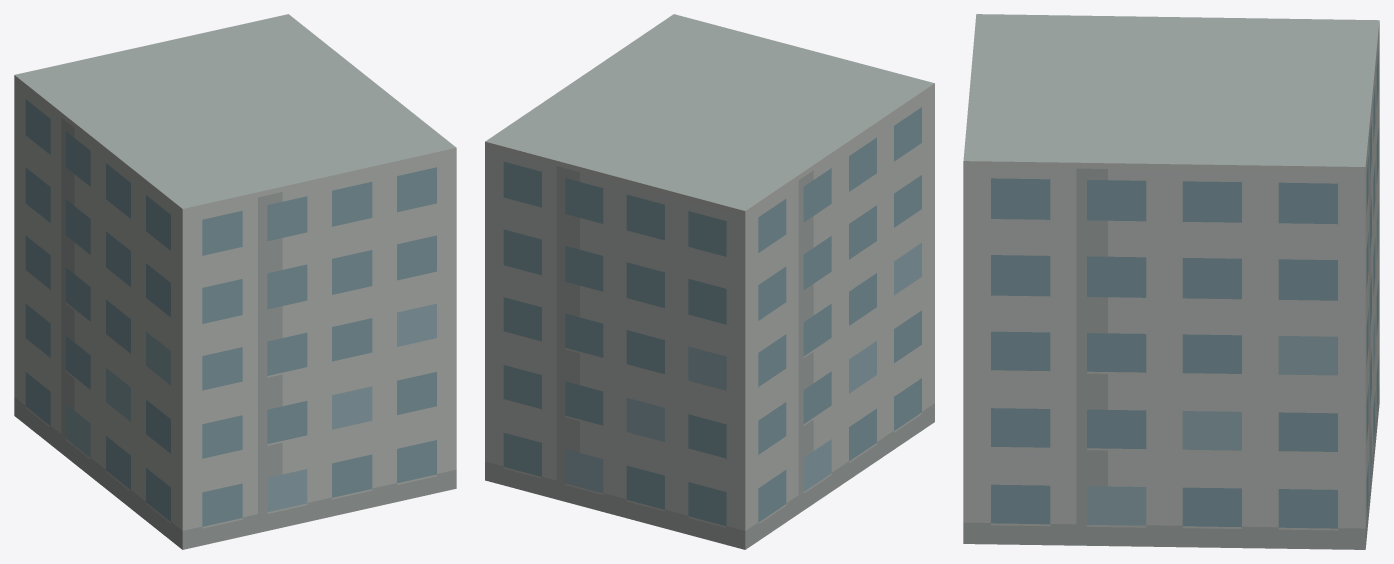
File: survey-upis-32998927.glb
3 renders of one model, left to right at view 1: azimuth 30°, elevation 25°; view 2: azimuth 150°, elevation 25°; view 3: azimuth 270°, elevation 25°, orthographic. The views are drawn at different scales.
Visible parts, largest first — view 1: survey-upis-32998927.tmp; view 2: survey-upis-32998927.tmp; view 3: survey-upis-32998927.tmp.
Boxes of the visible parts, <box> form: survey-upis-32998927.tmp: <box>14,14,456,549</box>; survey-upis-32998927.tmp: <box>485,14,934,549</box>; survey-upis-32998927.tmp: <box>963,14,1379,549</box>.
Size of the model in its own units: 13.64 by 15.9 by 15.67.
